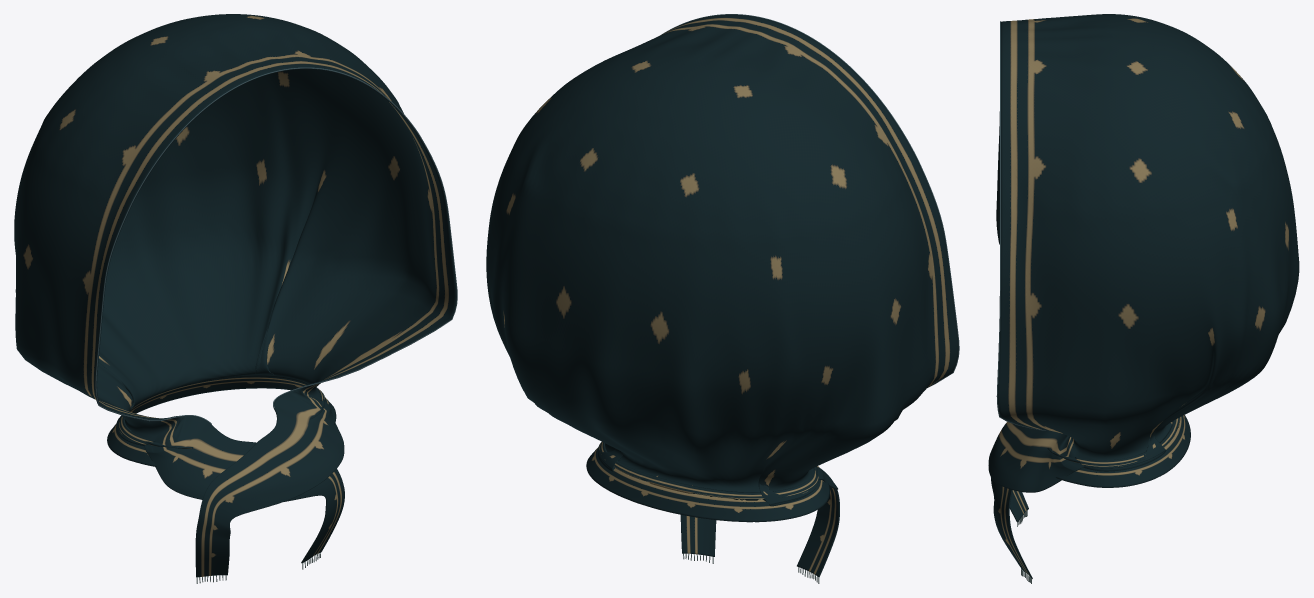
The model's file is Feminine-sweatshirt-pashmina240-headgear.glb.
3 renders of one model, left to right at view 1: azimuth 30°, elevation 25°; view 2: azimuth 150°, elevation 25°; view 3: azimuth 270°, elevation 25°, orthographic. The views are drawn at different scales.
Visible parts, largest first — view 1: 226 headgear / Headwear / continuous woven pashmina239, 226 headgear / Headwear / face edge239; view 2: 226 headgear / Headwear / continuous woven pashmina239, 226 headgear / Headwear / face edge239; view 3: 226 headgear / Headwear / continuous woven pashmina239, 226 headgear / Headwear / face edge239.
Part boxes in pixels (left/top/right/bottom): 226 headgear / Headwear / continuous woven pashmina239: left=14, top=14, right=456, bottom=577; 226 headgear / Headwear / face edge239: left=95, top=67, right=457, bottom=424; 226 headgear / Headwear / continuous woven pashmina239: left=486, top=14, right=958, bottom=577; 226 headgear / Headwear / face edge239: left=661, top=14, right=959, bottom=387; 226 headgear / Headwear / continuous woven pashmina239: left=988, top=14, right=1299, bottom=578; 226 headgear / Headwear / face edge239: left=996, top=21, right=1047, bottom=430.
Bounding box in the file's own units: 1.02 × 1.35 × 0.7301.
Materials: 3 (1 with a texture image).
